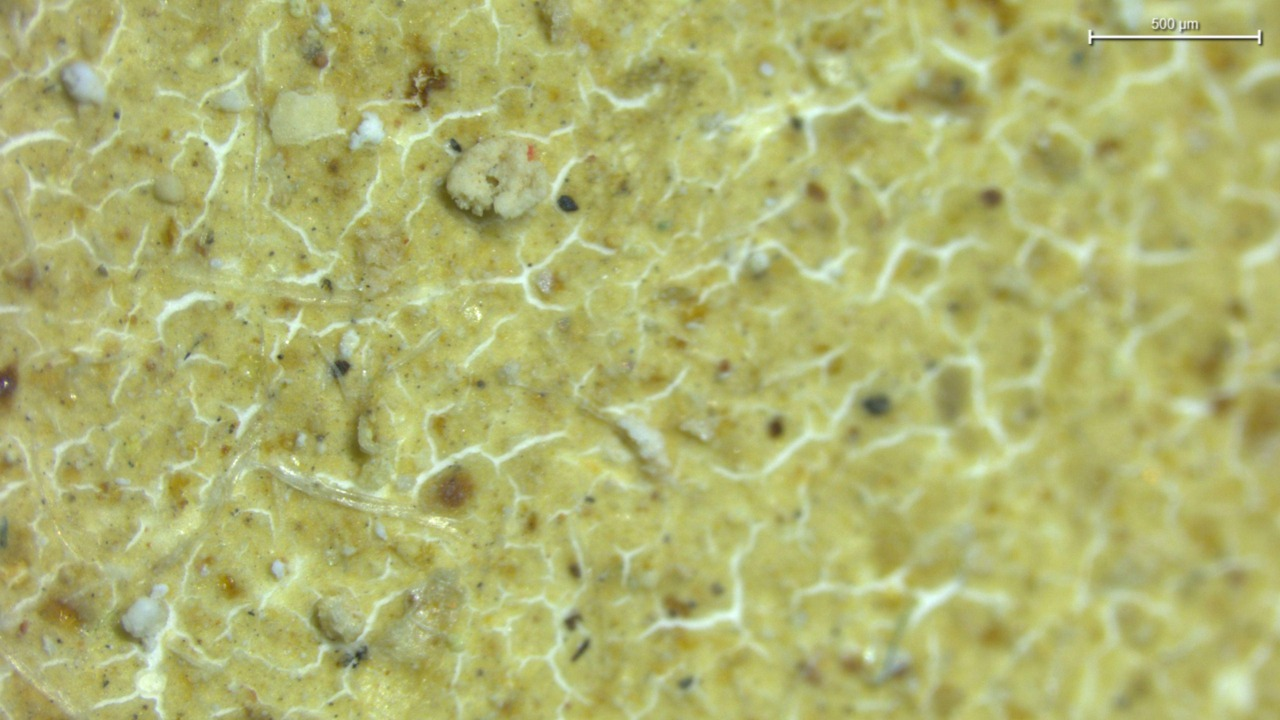microplastic_fragment: (446, 137, 550, 219), (120, 584, 168, 651), (314, 598, 362, 643), (61, 61, 105, 104)
